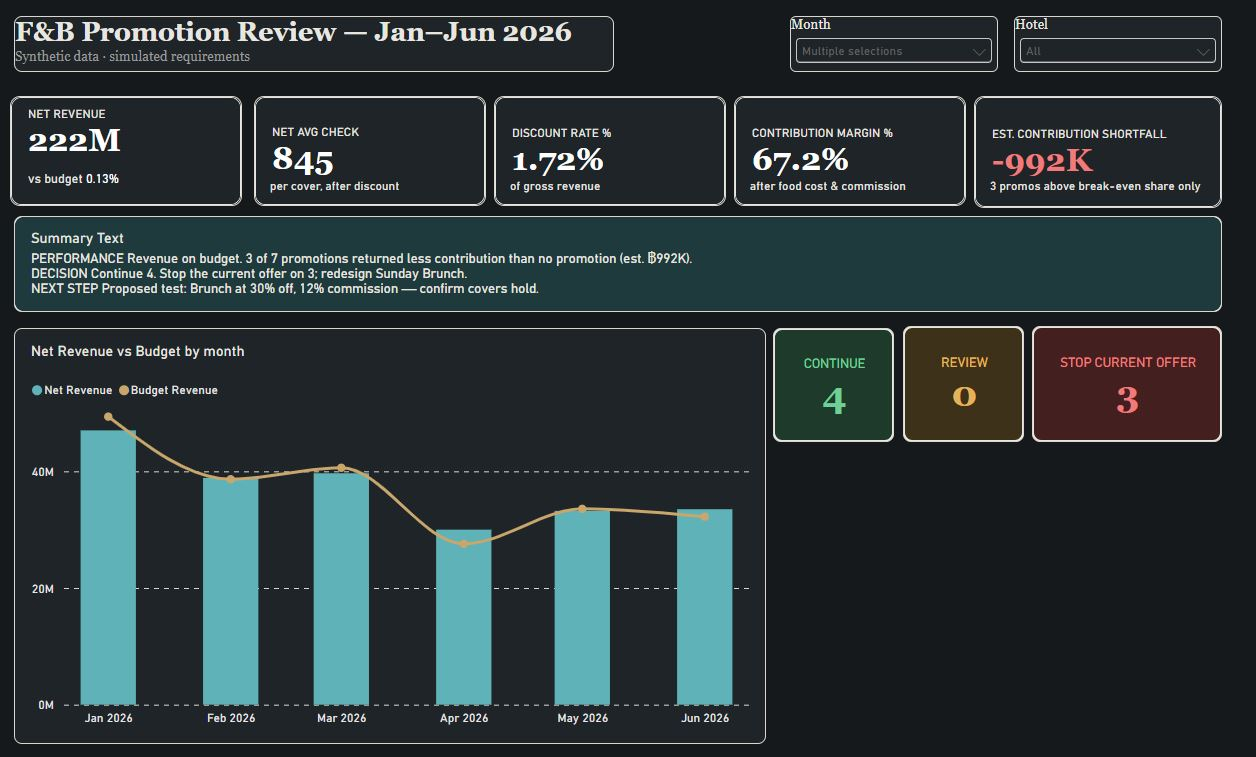

This screenshot's page, from the dashboard's own definition file:
{"tool":"powerbi","page":{"name":"Executive","canvas":[1300,980],"ordinal":0},"visuals":[{"type":"textbox","box":[24,40,600,56],"z":0},{"type":"slicer","title":"Month","fields":{"Values":["DimDate.MonthYear"]},"box":[800,40,208,56],"z":1000},{"type":"cardVisual","fields":{"Data":["_Measures.Net Revenue"]},"box":[20,120,232,110],"z":2000},{"type":"lineClusteredColumnComboChart","title":"Net Revenue vs Budget by month","fields":{"Category":["DimDate.MonthYear"],"Y":["_Measures.Net Revenue"],"Y2":["KPI.Budget Revenue"]},"box":[24,352,752,416],"z":3000},{"type":"cardVisual","fields":{"Data":["Promo decision.Promos Continue"]},"box":[783,352,121,114],"z":4000},{"type":"cardVisual","fields":{"Data":["Promo decision.Promos Review"]},"box":[913,350,121,116],"z":5000},{"type":"cardVisual","fields":{"Data":["Promo decision.Promos Stop"]},"box":[1042,350,190,116],"z":6000},{"type":"cardVisual","fields":{"Data":["_Measures.Summary Text"]},"box":[24,240,1208,96],"z":7000},{"type":"slicer","title":"Hotel","fields":{"Values":["DimHotel.HotelName"]},"box":[1024,40,208,56],"z":8000},{"type":"cardVisual","fields":{"Data":["KPI.Net Avg Check"]},"box":[264,120,232,110],"z":9000},{"type":"cardVisual","fields":{"Data":["KPI.Discount Rate %"]},"box":[504,120,232,110],"z":10000},{"type":"textbox","box":[280,200,160,24],"z":11000},{"type":"textbox","box":[520,200,120,24],"z":12000},{"type":"cardVisual","fields":{"Data":["KPI.CM %"]},"box":[744,120,232,110],"z":13000},{"type":"textbox","box":[760,200,176,24],"z":14000},{"type":"cardVisual","fields":{"Data":["Promo decision.Contribution Shortfall"]},"box":[984,120,248,112],"z":15000},{"type":"textbox","box":[1000,200,224,24],"z":16000}]}

Visuals, with their boxes on the page's 1300x980 design canvas (x1, y1, x2, y2). These are canvas units, not pixel positions in the 1256x757 screenshot, which may show the page scaled, cropped or inside an application window:
textbox: [left=24, top=40, right=624, bottom=96]
"Month" slicer: [left=800, top=40, right=1008, bottom=96]
cardVisual - _Measures.Net Revenue: [left=20, top=120, right=252, bottom=230]
"Net Revenue vs Budget by month" lineClusteredColumnComboChart: [left=24, top=352, right=776, bottom=768]
cardVisual - Promo decision.Promos Continue: [left=783, top=352, right=904, bottom=466]
cardVisual - Promo decision.Promos Review: [left=913, top=350, right=1034, bottom=466]
cardVisual - Promo decision.Promos Stop: [left=1042, top=350, right=1232, bottom=466]
cardVisual - _Measures.Summary Text: [left=24, top=240, right=1232, bottom=336]
"Hotel" slicer: [left=1024, top=40, right=1232, bottom=96]
cardVisual - KPI.Net Avg Check: [left=264, top=120, right=496, bottom=230]
cardVisual - KPI.Discount Rate %: [left=504, top=120, right=736, bottom=230]
textbox: [left=280, top=200, right=440, bottom=224]
textbox: [left=520, top=200, right=640, bottom=224]
cardVisual - KPI.CM %: [left=744, top=120, right=976, bottom=230]
textbox: [left=760, top=200, right=936, bottom=224]
cardVisual - Promo decision.Contribution Shortfall: [left=984, top=120, right=1232, bottom=232]
textbox: [left=1000, top=200, right=1224, bottom=224]
